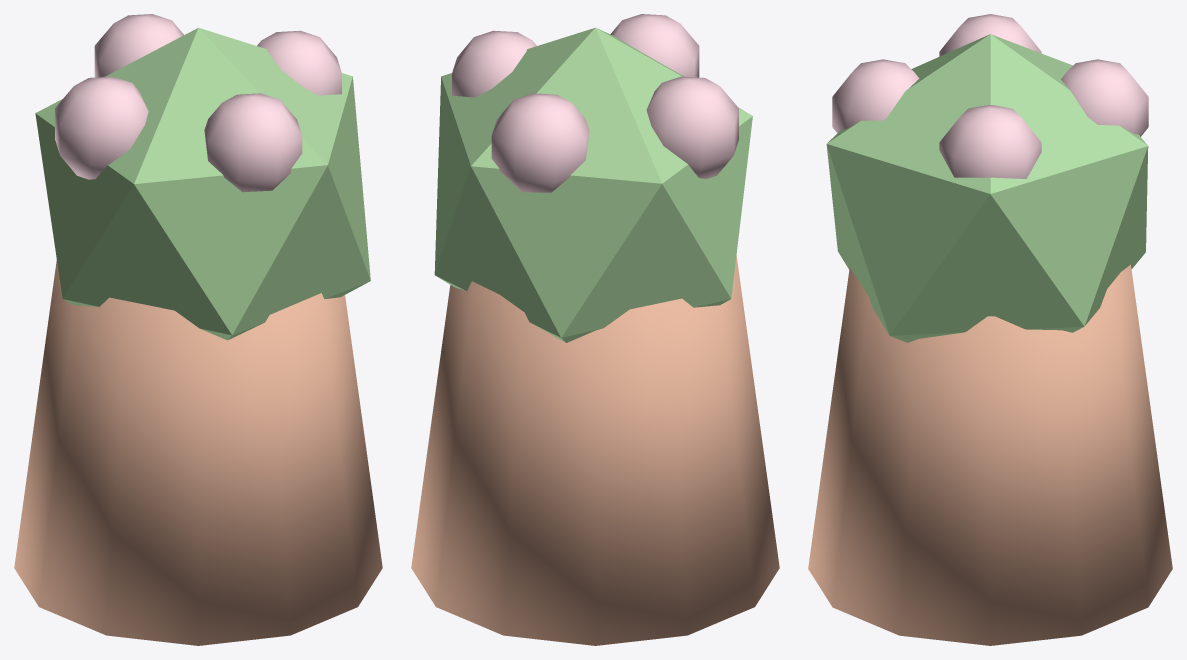
The model's file is flower_pot.glb.
The picture shows the model from 3 angles, left to right: view 1: azimuth 30°, elevation 25°; view 2: azimuth 150°, elevation 25°; view 3: azimuth 270°, elevation 25°; orthographic projection.
Visible parts, largest first — view 1: flower_pot; view 2: flower_pot; view 3: flower_pot.
Part boxes in pixels (x1,y1,x2,y2): flower_pot: (14, 14, 382, 645); flower_pot: (411, 14, 779, 645); flower_pot: (808, 14, 1172, 645).
Size of the model in its own units: 0.408 by 0.6602 by 0.408.
